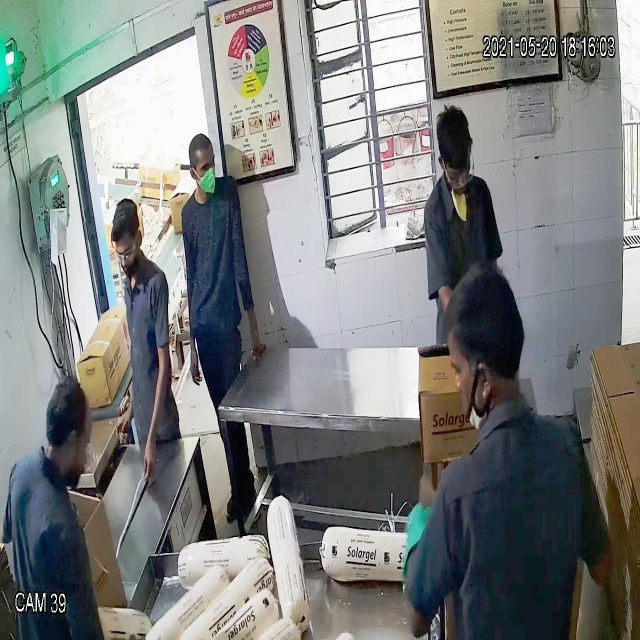Gafas: (427, 143, 484, 194), (111, 230, 143, 270)
